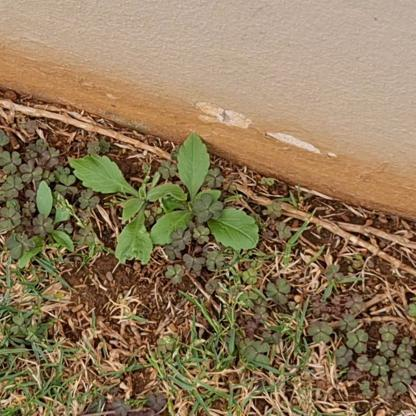Weeds: (154, 130, 263, 259), (68, 149, 186, 265)
